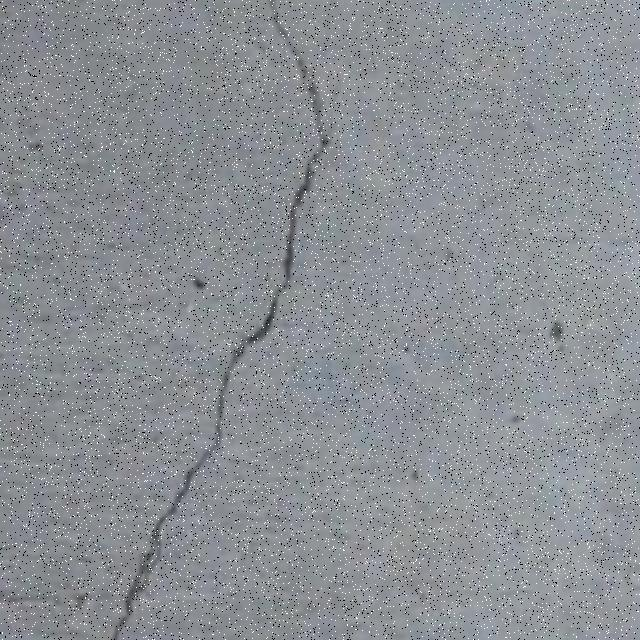moderate crack: (2, 588, 62, 604)
severe crack: (250, 160, 318, 334), (257, 8, 328, 144), (108, 541, 163, 634)
